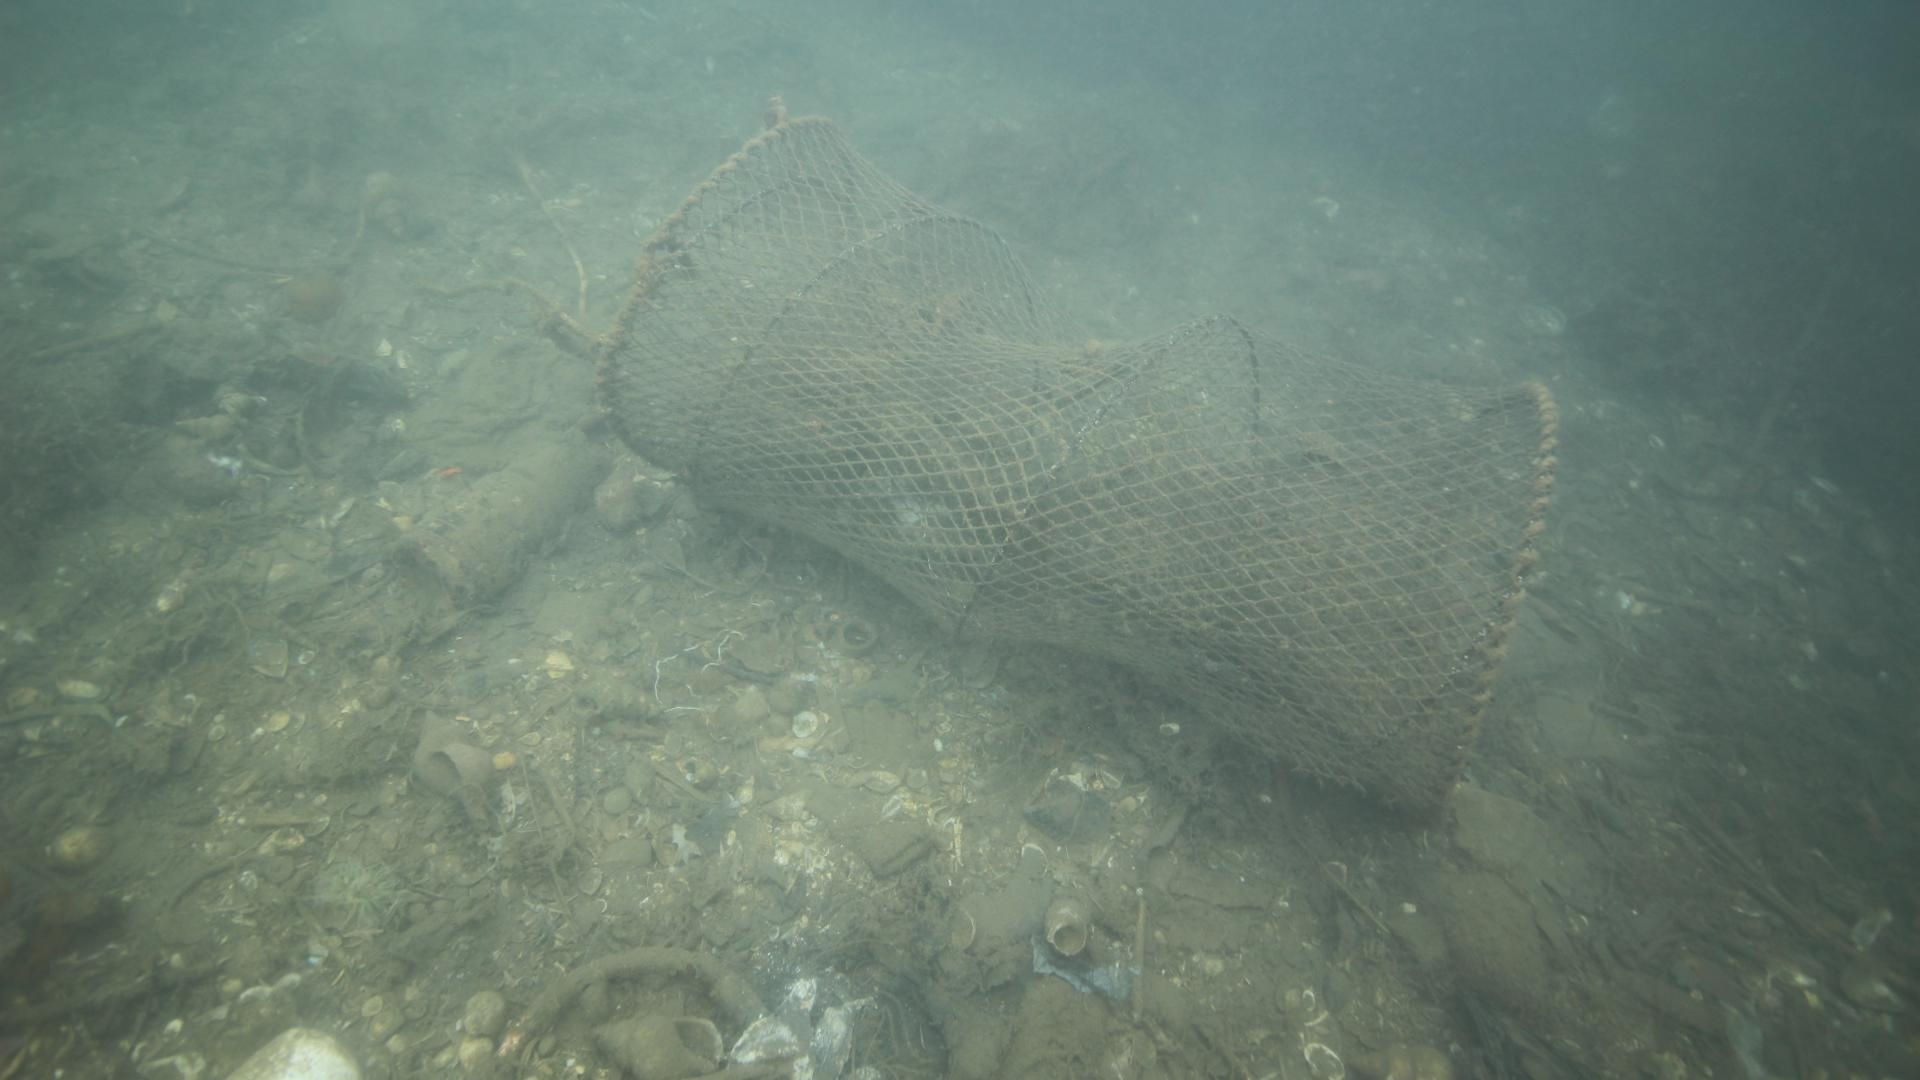spring fish trap: (591, 111, 1557, 837)
